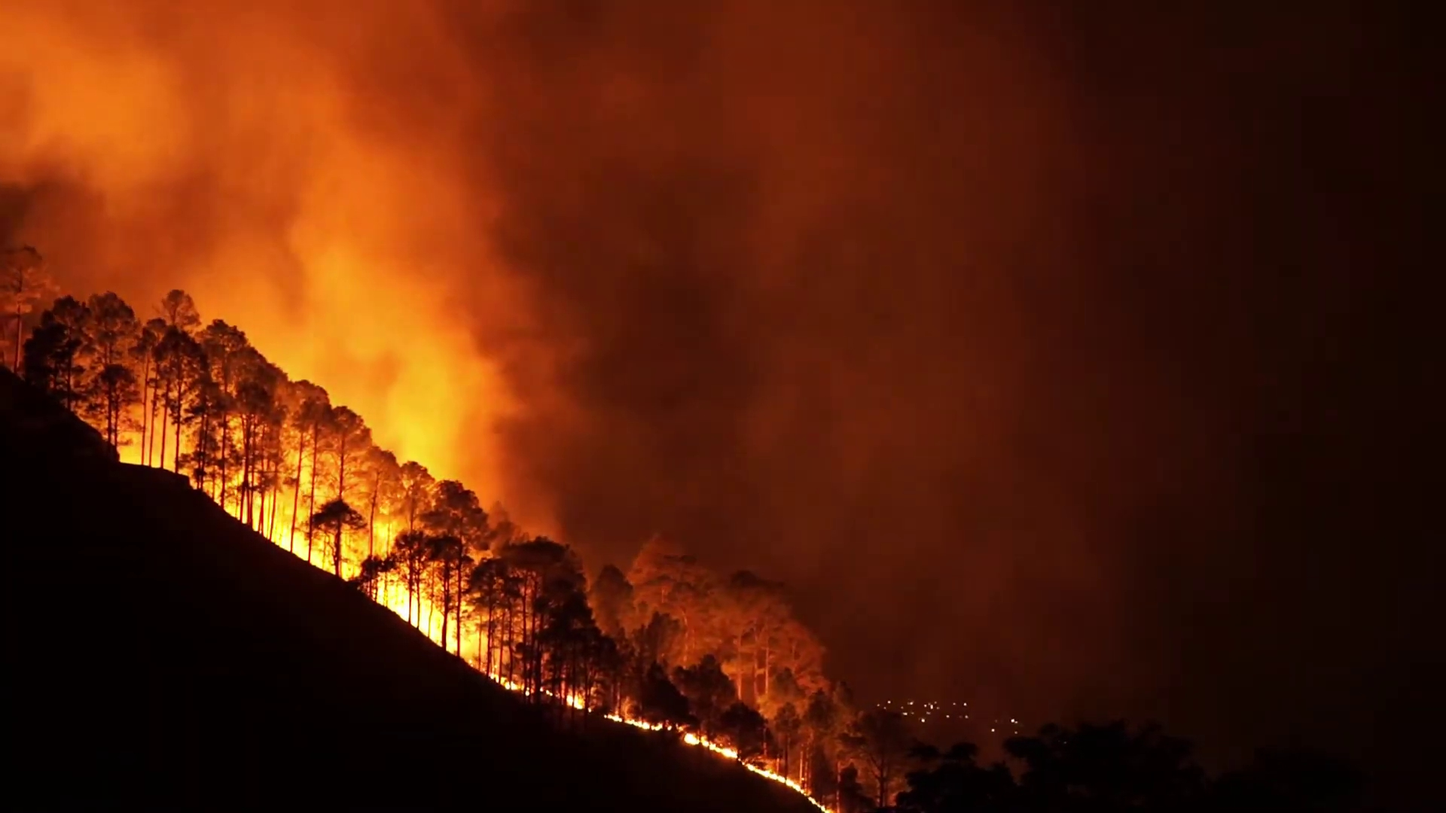forest_fire: (5, 248, 853, 810)
